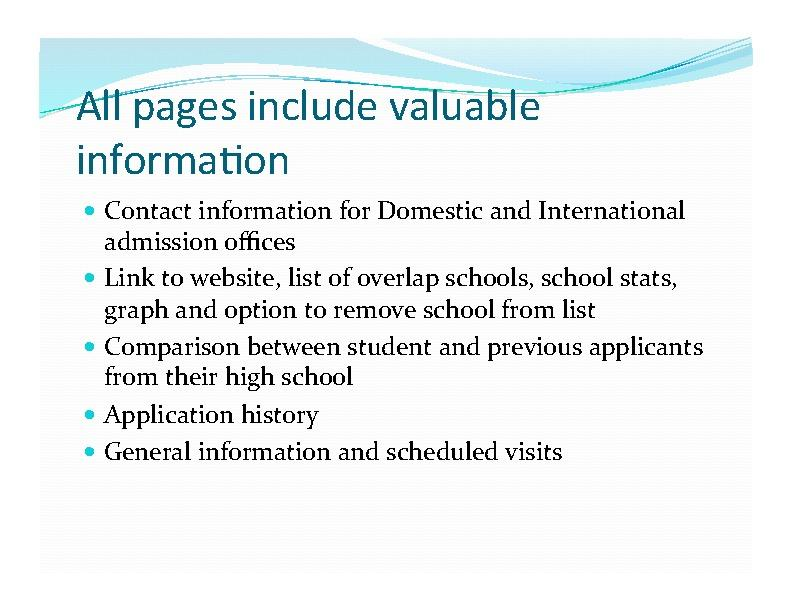paragraph: (80, 190, 747, 490)
title: (62, 78, 571, 185)
